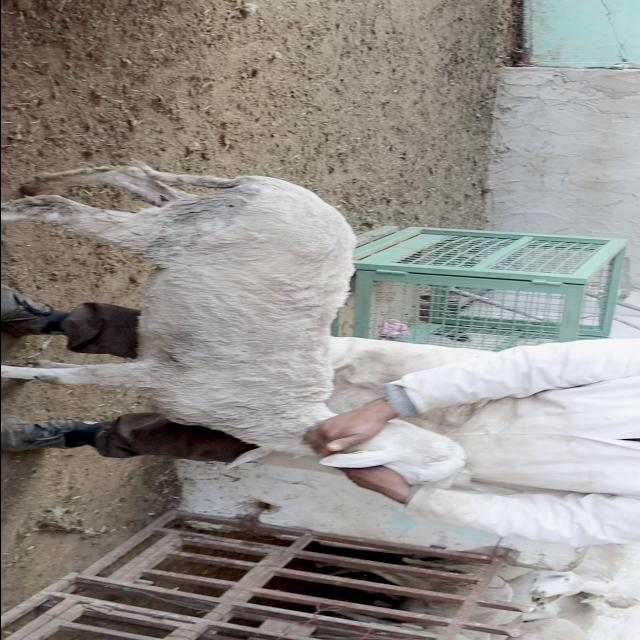Score_1: (1, 163, 356, 453)
